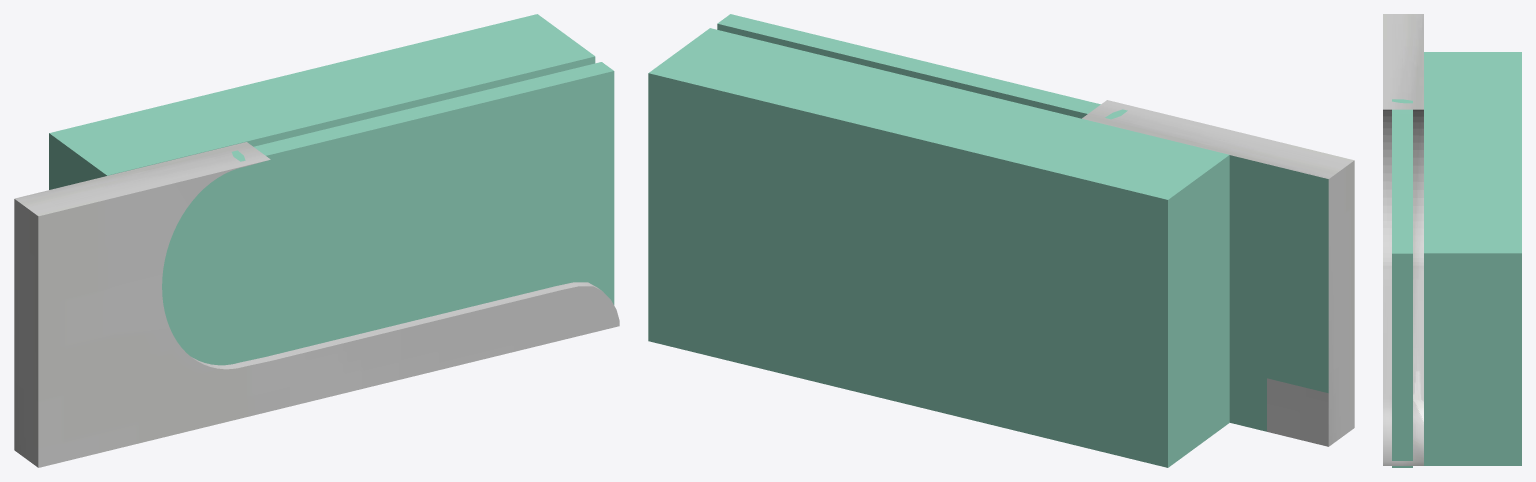
Rendered from SmallFishtankWall.fbx.
The picture shows the model from 3 angles, left to right: view 1: azimuth 30°, elevation 25°; view 2: azimuth 150°, elevation 25°; view 3: azimuth 270°, elevation 25°; orthographic projection. The views are drawn at different scales.
Visible parts, largest first — view 1: pCubeShape241; view 2: pCubeShape241; view 3: pCubeShape241.
Part boxes in pixels (x1=…): pCubeShape241: x1=14, y1=14, x2=619, y2=467; pCubeShape241: x1=648, y1=14, x2=1354, y2=467; pCubeShape241: x1=1383, y1=14, x2=1521, y2=467.
Bounding box in the file's own units: 1350 × 565 × 331.
Materials: 2 (1 with a texture image).
